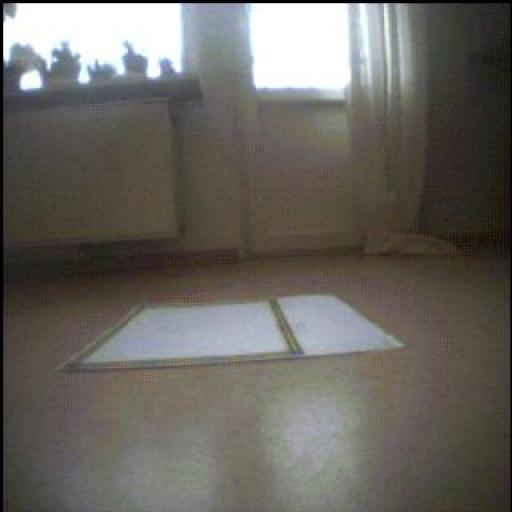Pad: (65, 296, 403, 373)
